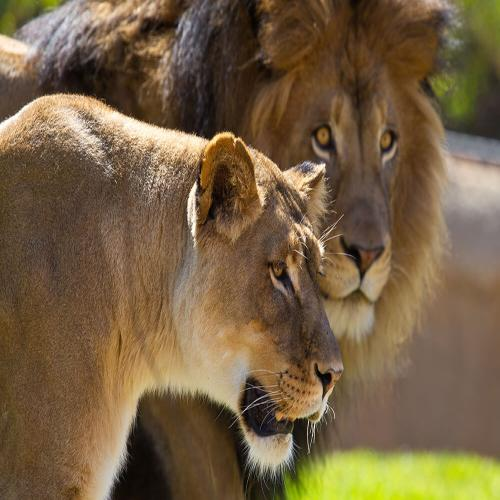lion-endangered: (1, 3, 456, 500), (0, 94, 345, 500)
